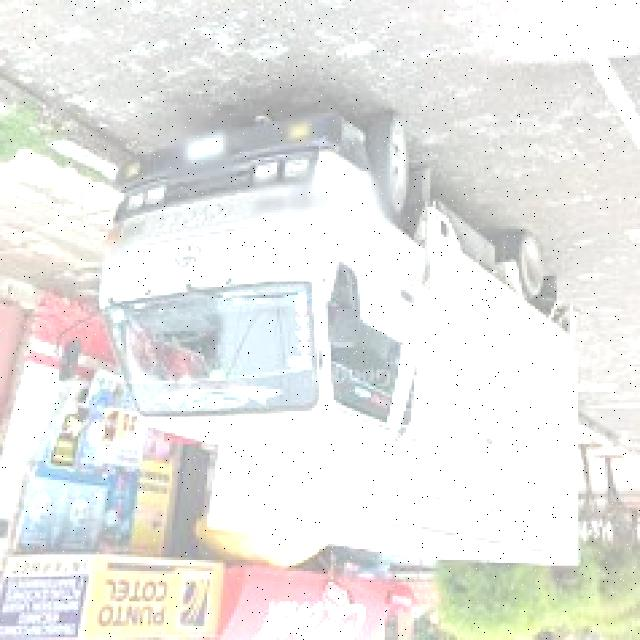car: (102, 118, 581, 576)
